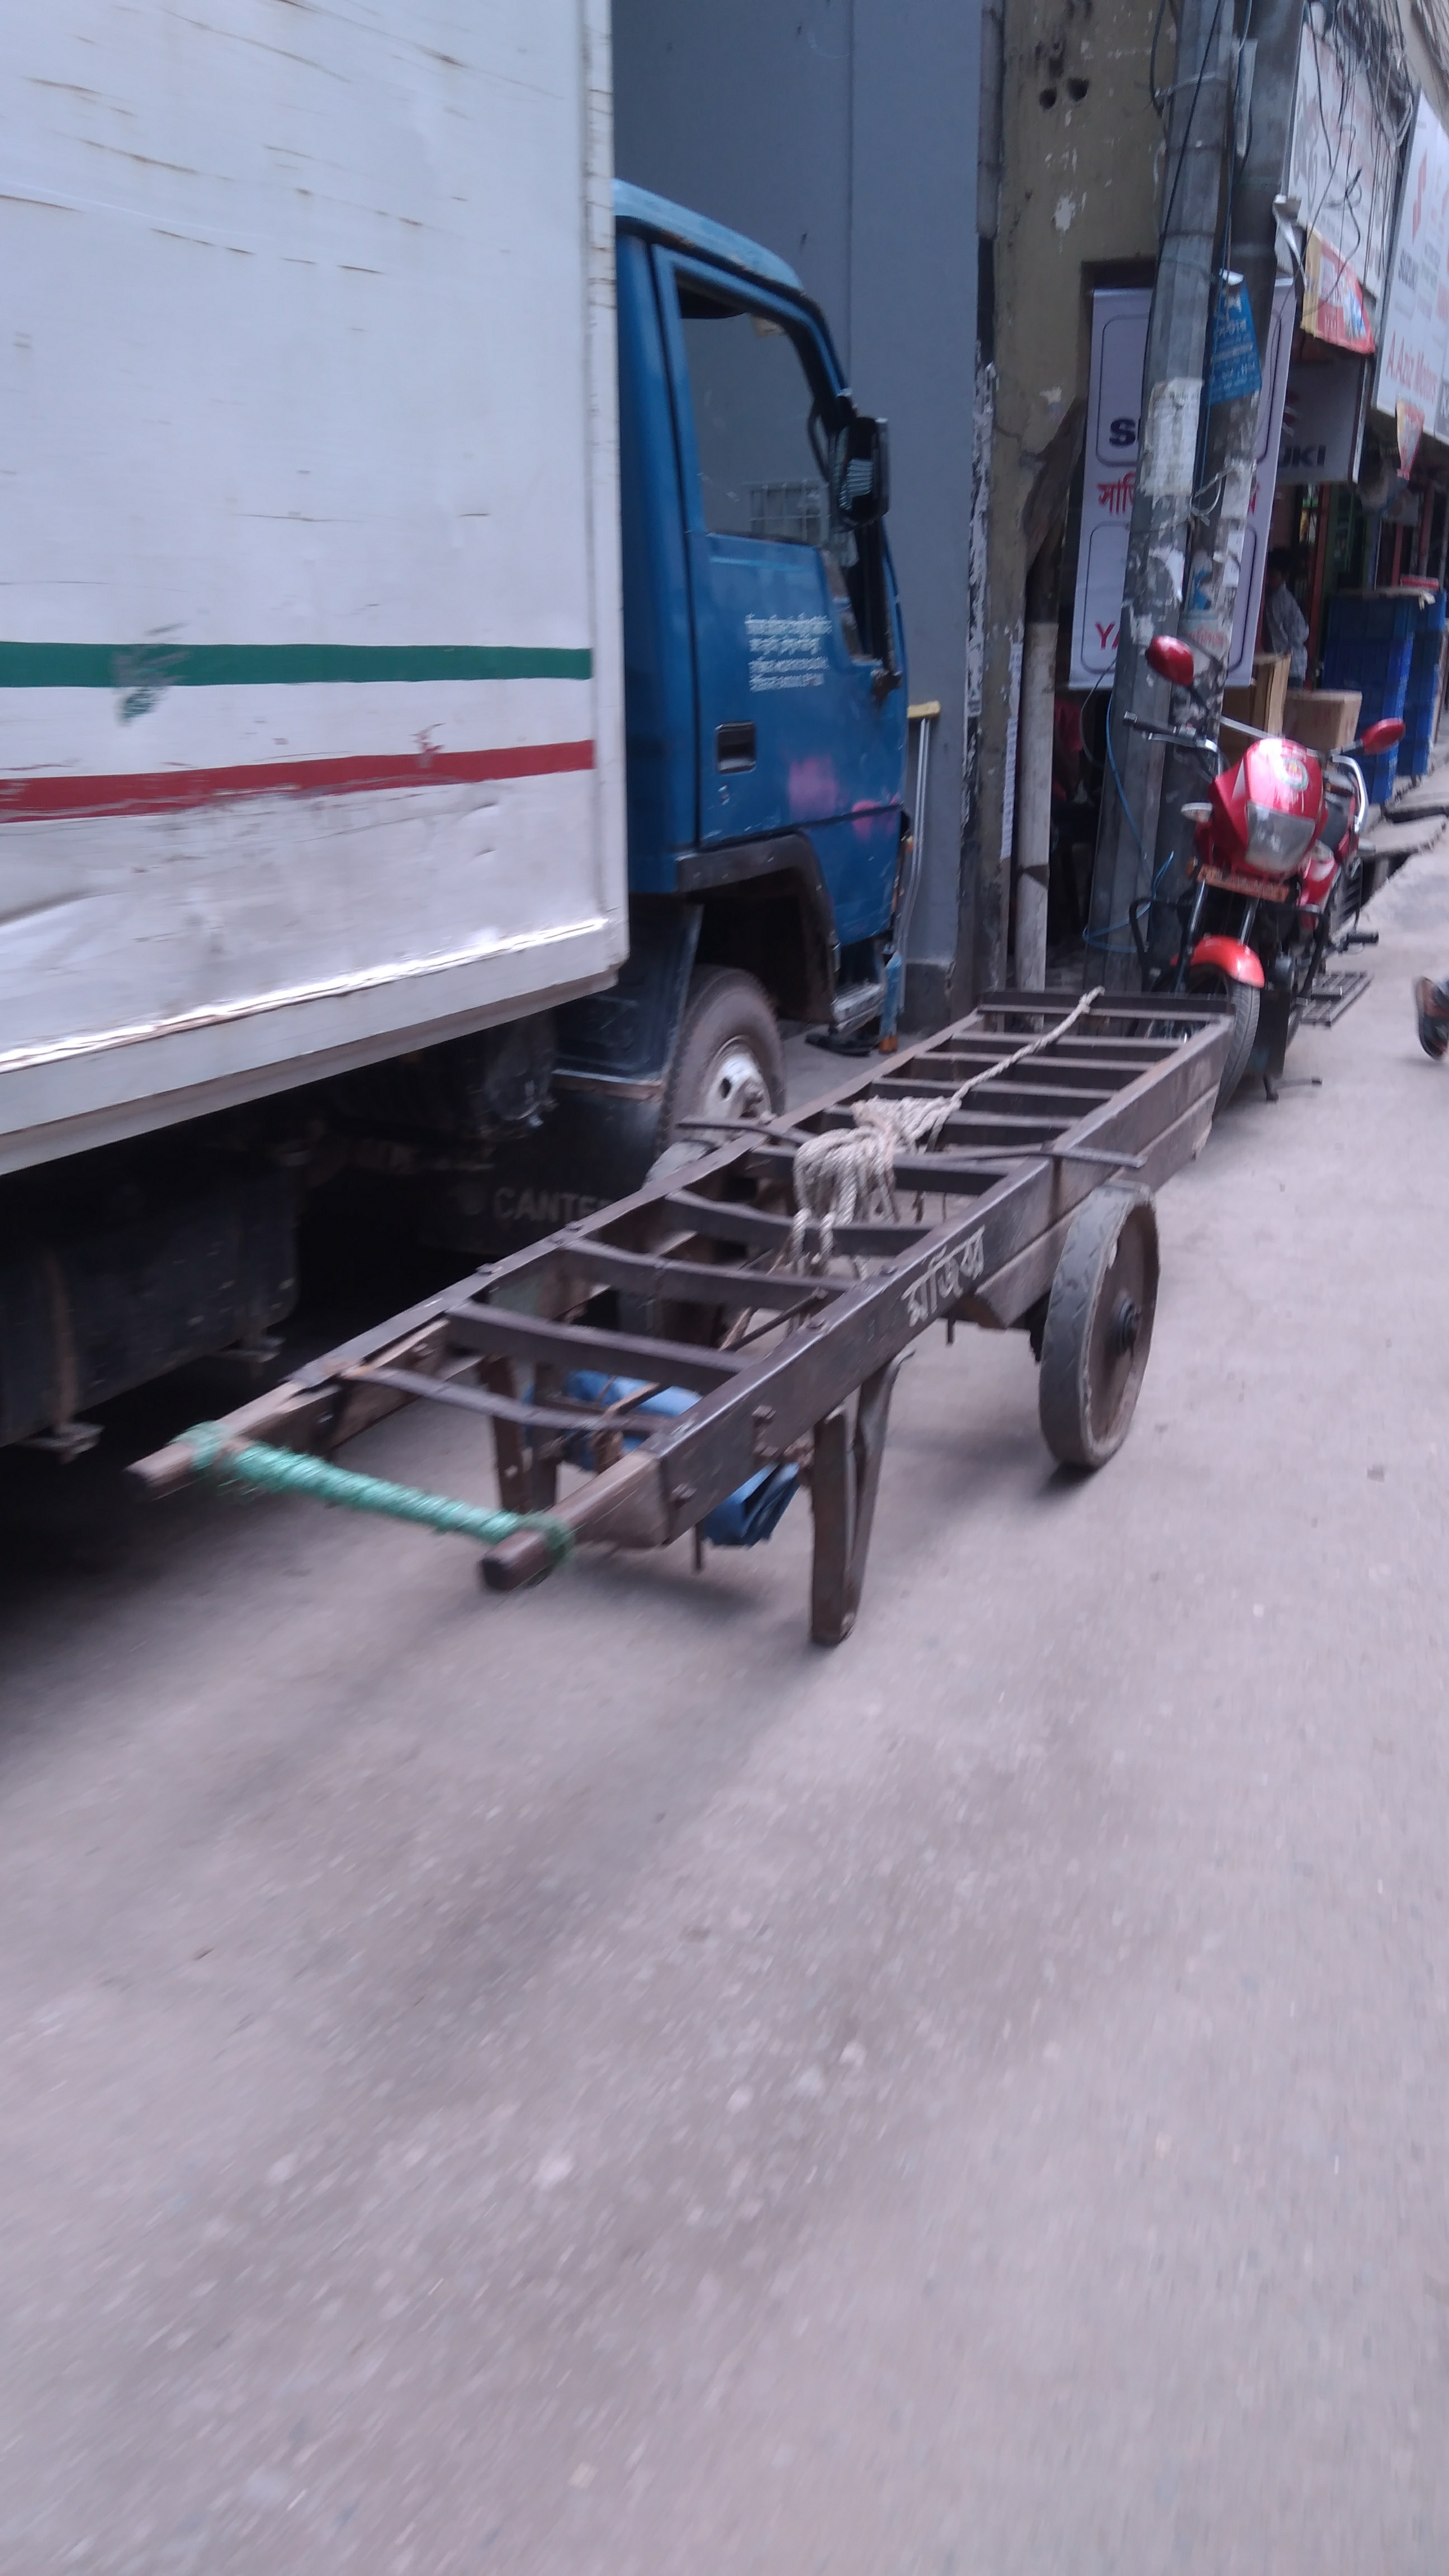bike: (1116, 587, 1412, 1141)
truck: (0, 5, 977, 1260)
wheelbarrow: (76, 925, 1295, 1631)
